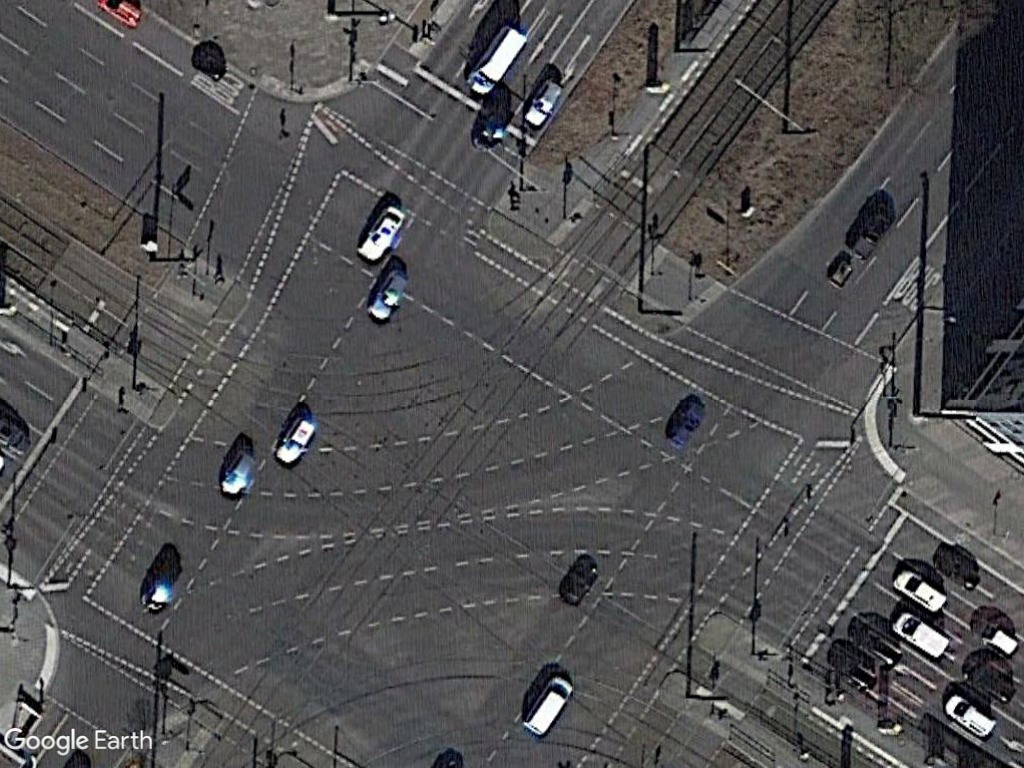car: (355, 204, 411, 267), (265, 411, 324, 468), (361, 265, 416, 324), (889, 564, 949, 614), (521, 72, 569, 131), (213, 444, 261, 500)
van: (464, 23, 534, 96), (517, 673, 584, 738), (889, 606, 952, 666), (937, 688, 1000, 741)
